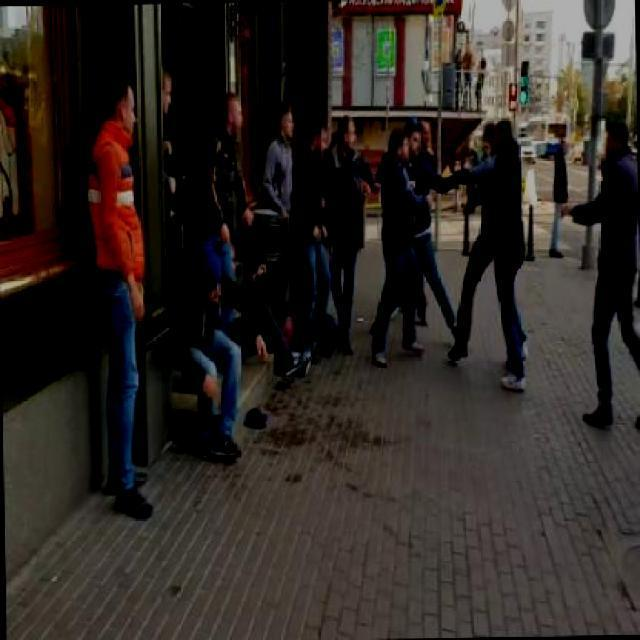fight: (400, 117, 522, 366)
non-fight: (85, 73, 150, 510), (169, 255, 263, 463), (193, 90, 253, 258), (293, 116, 332, 347), (258, 100, 298, 208), (544, 130, 568, 264)
